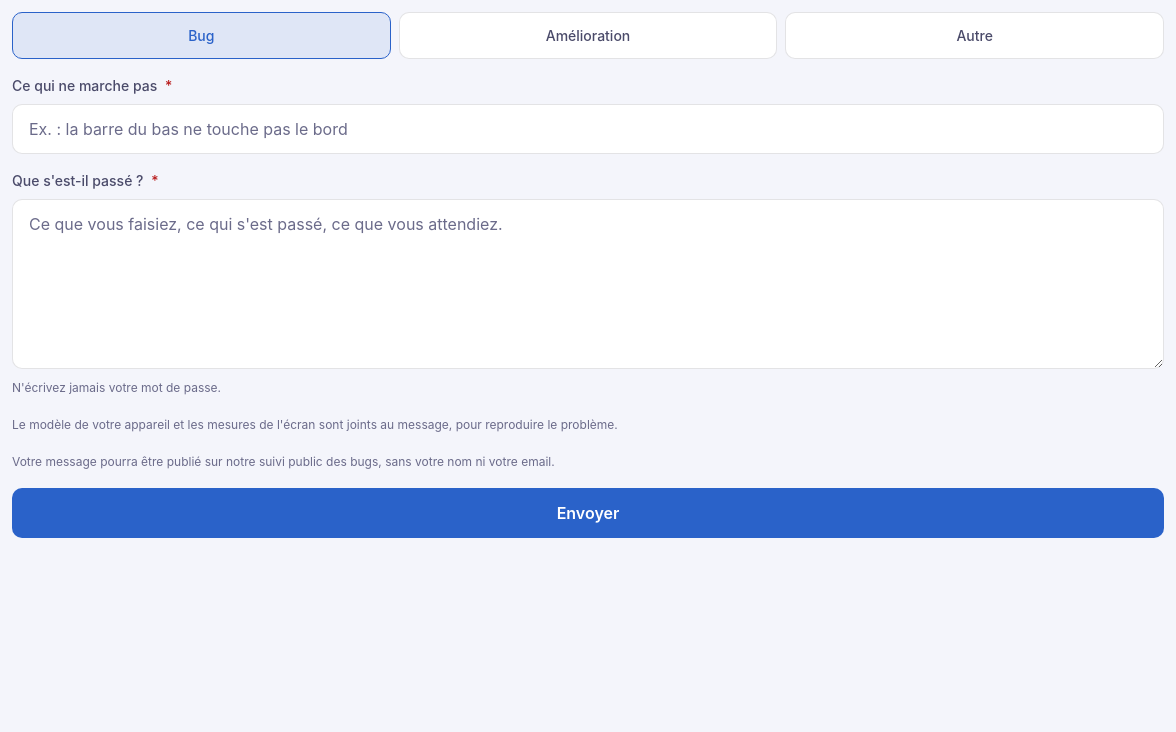
Test: SupportForm › valide avant d'appeler l'API
The width and height of the screenshot is (1176, 732).
Type "ab" into the field with id "support-subject".
click(588, 129); type("ab")  # box [12,104,1164,154]
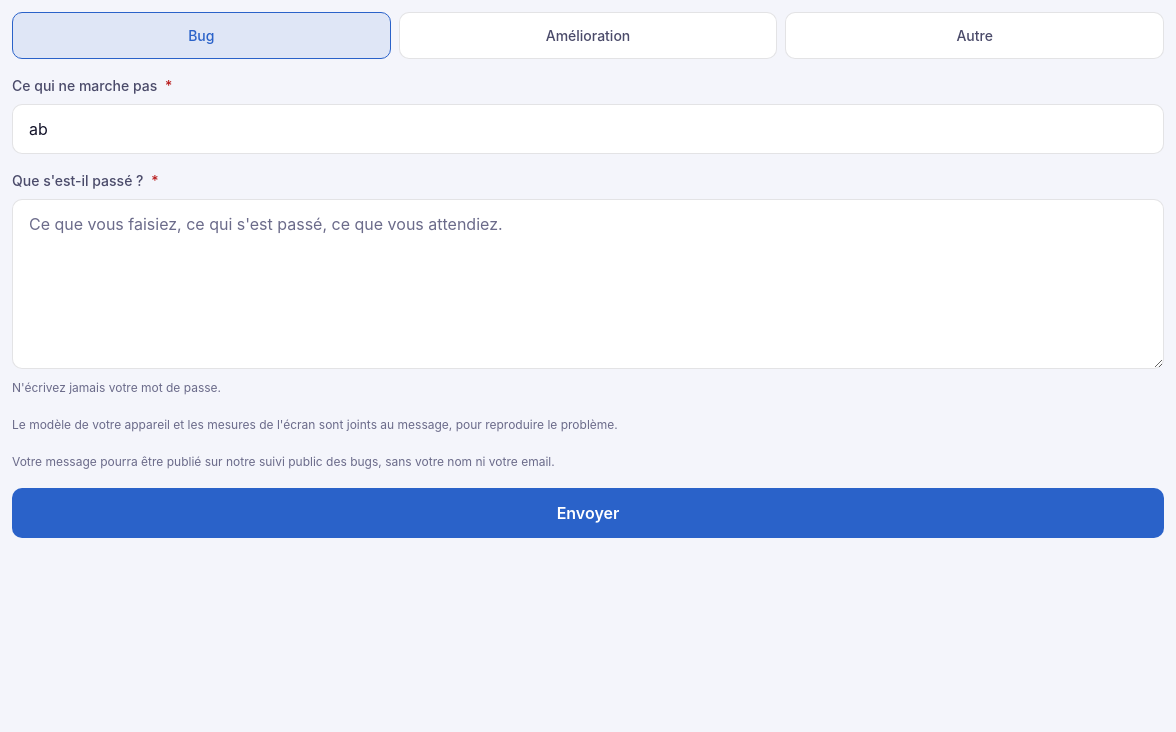
Replace the text in the text box with id "support-message" with "court" at {"x": 588, "y": 284}, box [12,199,1164,369]
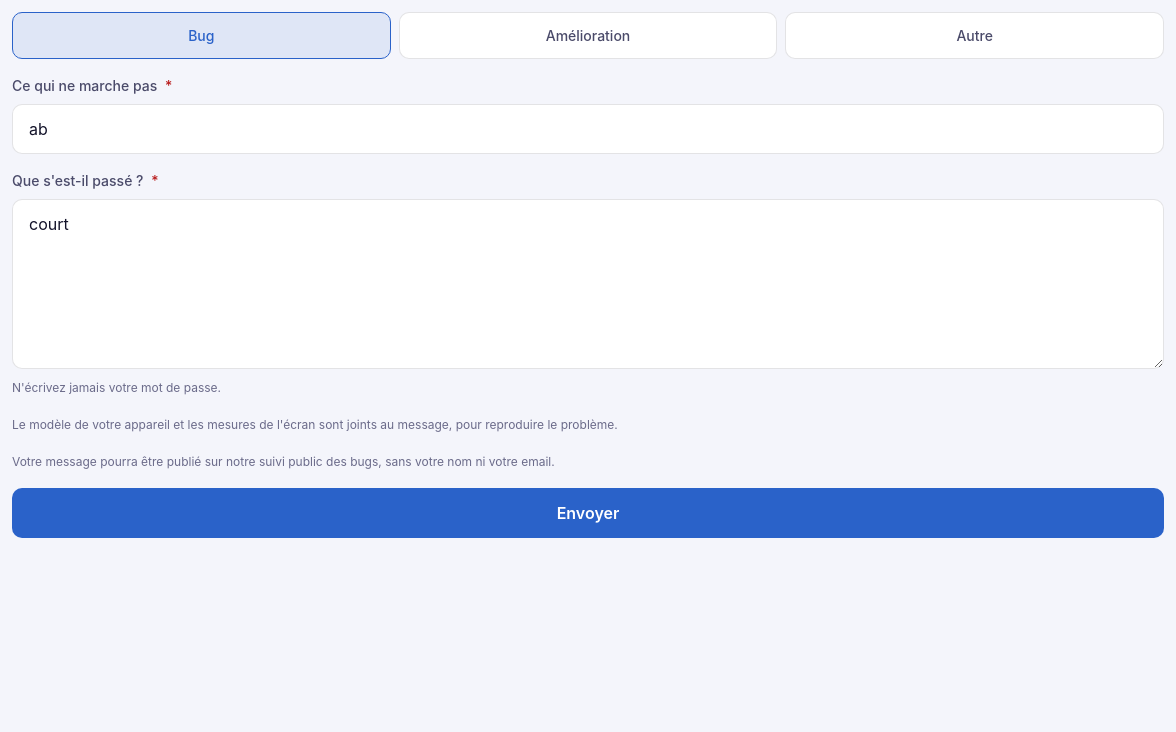
Submit the form
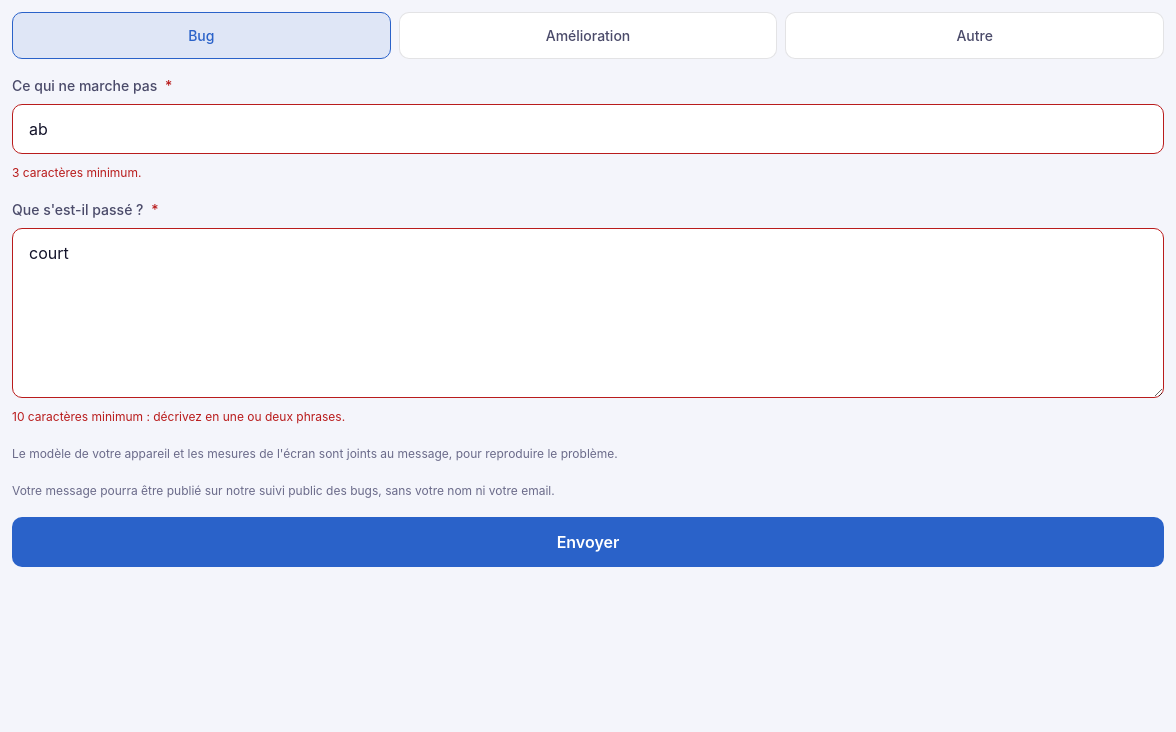
Expected: the form shows "3 caractères minimum", [12,165,141,180]
Expected: the form shows "10 caractères minimum", [12,409,345,424]
